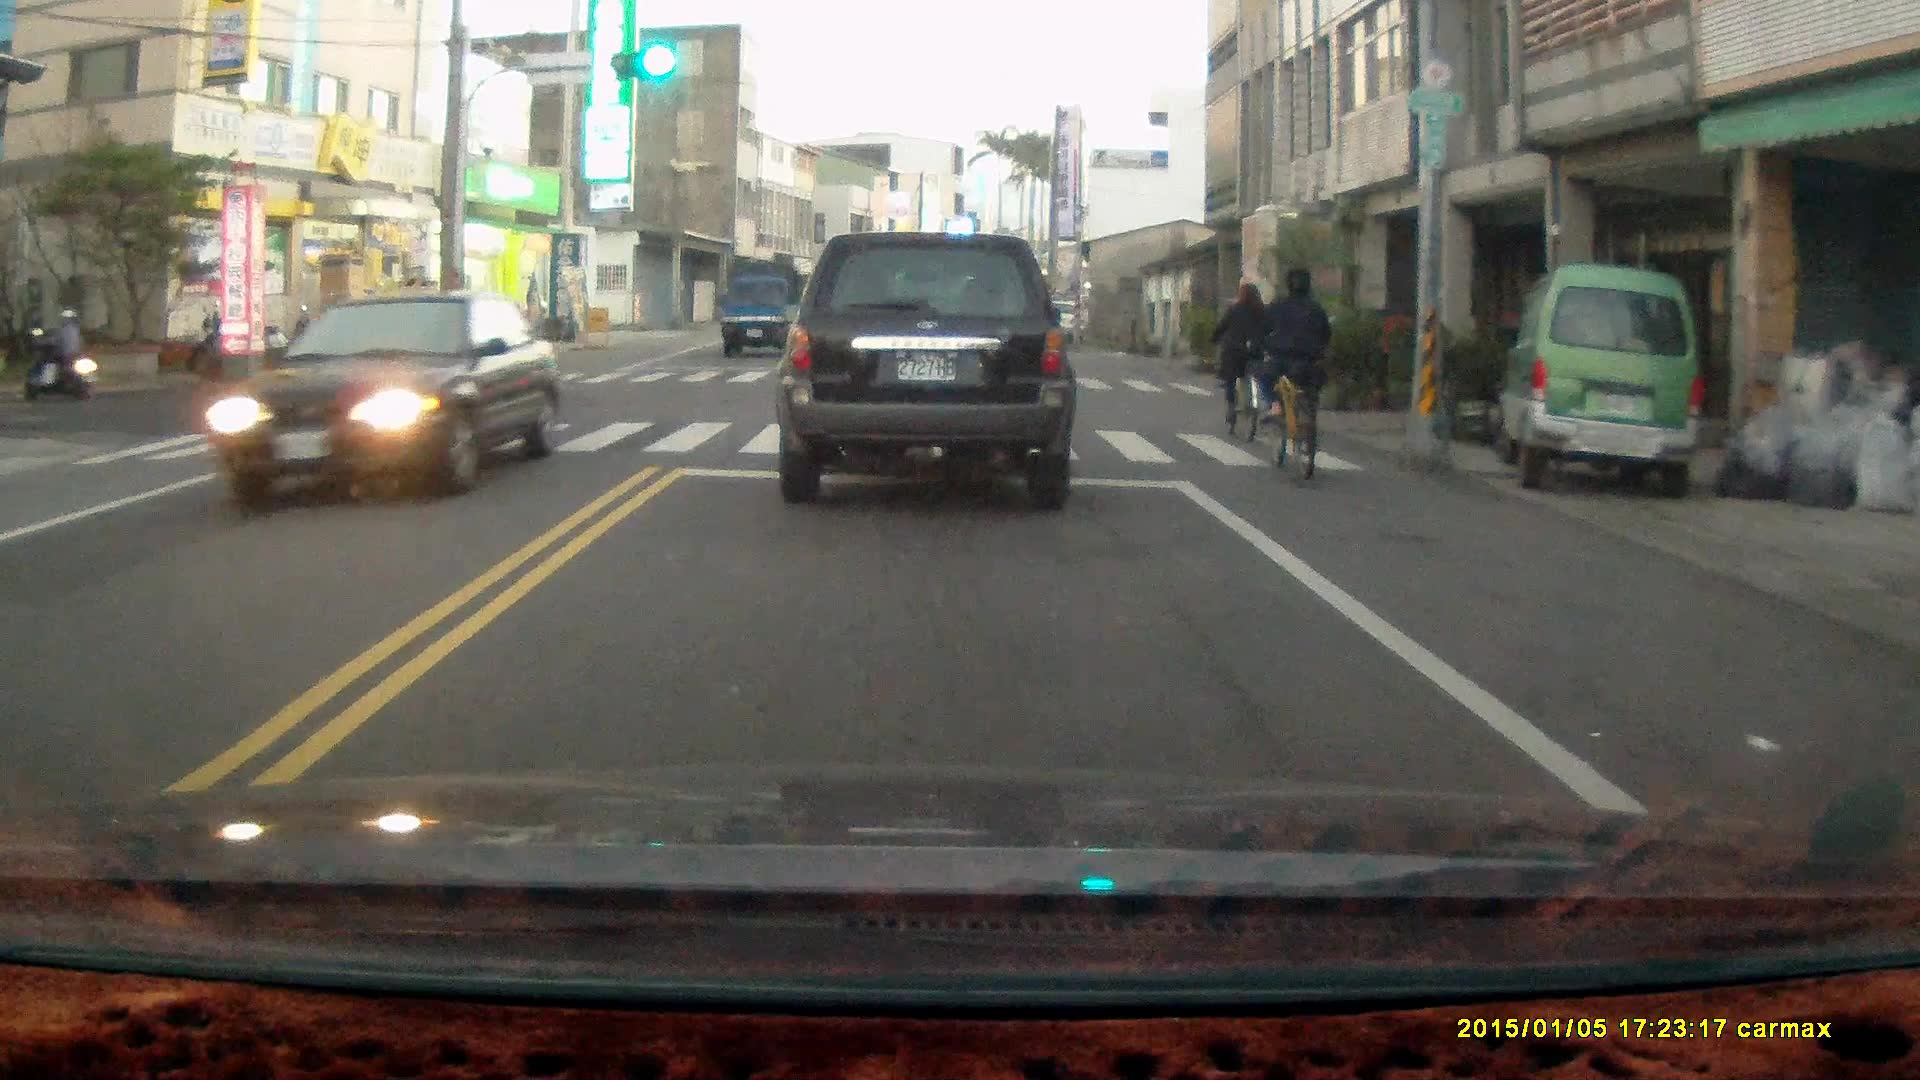rider: (1248, 263, 1333, 478), (1211, 281, 1269, 456), (23, 304, 98, 404)
vehicle: (775, 230, 1077, 510), (209, 289, 565, 504), (1496, 261, 1707, 500), (722, 255, 816, 354)
